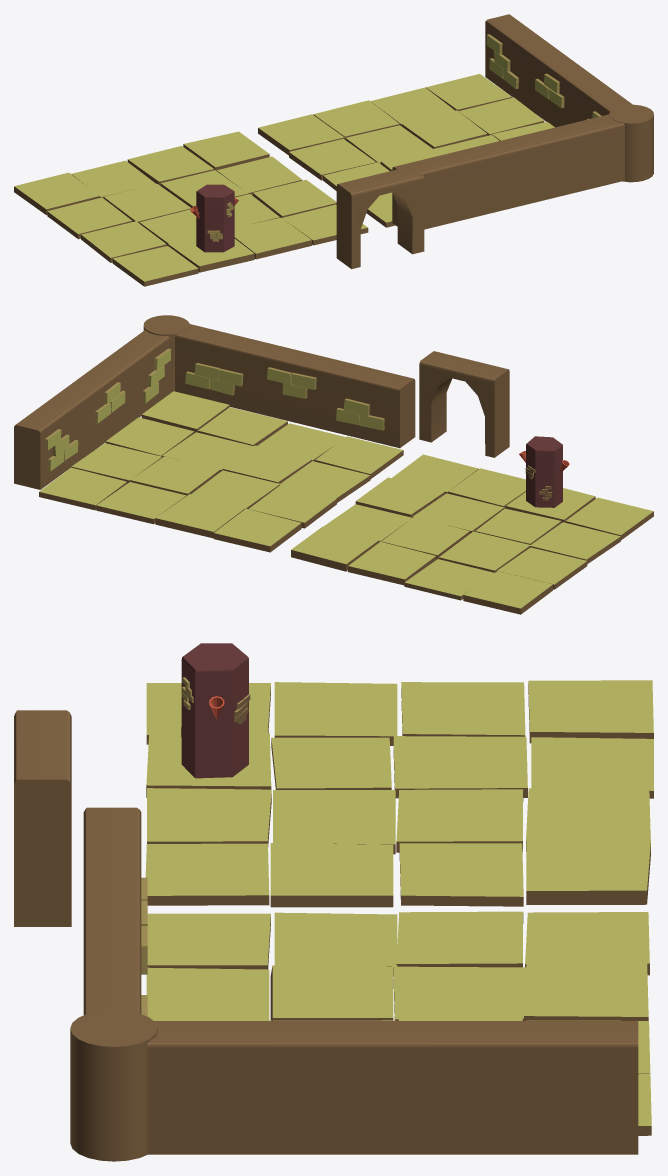
Rendered from environmentImport.fbx.
3 renders of one model, top to bottom at view 1: azimuth 30°, elevation 25°; view 2: azimuth 150°, elevation 25°; view 3: azimuth 270°, elevation 25°, orthographic. The views are drawn at different scales.
Visible parts, largest first — view 1: wall01 (×2), Portal, pCube11 (×2), pCube15 (×2), pCube14 (×2), pCube12 (×2), pCube9 (×2), pCube16 (×2), pCube10 (×2), pCube13 (×2), pCube1 (×2), pCube3 (×2) (+8 smaller); view 2: wall01 (×2), Portal, pCube15 (×2), pCube11 (×2), pCube7 (×2), pCube12 (×2), pCube1 (×2), pCube3 (×2), pCube10 (×2), pCube14 (×2), pCube4 (×2), pCube13 (×2) (+8 smaller); view 3: wall01 (×2), pCube4 (×2), pCube14 (×2), pCube10 (×2), pCube3 (×2), pCube15 (×2), pCube2 (×2), Portal, cornerCylinder, pCube16 (×2), pCube1 (×2), pCube13 (×2) (+8 smaller).
Boxes of the visible parts, box(x1,y1,x2,y2) form: wall01 (×2): box(392, 14, 632, 229); Portal: box(336, 166, 424, 269); pCube11 (×2): box(14, 110, 487, 215); pCube15 (×2): box(127, 114, 344, 185); pCube14 (×2): box(103, 125, 432, 223); pCube12 (×2): box(47, 87, 454, 239); pCube9 (×2): box(216, 97, 544, 195); pCube16 (×2): box(168, 100, 399, 272); pCube10 (×2): box(160, 138, 376, 207); pCube13 (×2): box(282, 74, 512, 245); pCube1 (×2): box(112, 192, 395, 286); pCube3 (×2): box(81, 162, 389, 262); wall01 (×2): box(14, 324, 415, 489); Portal: box(419, 351, 509, 457); pCube15 (×2): box(213, 508, 436, 585); pCube11 (×2): box(130, 456, 552, 614); pCube7 (×2): box(141, 391, 379, 571); pCube12 (×2): box(96, 482, 587, 589); pCube1 (×2): box(315, 436, 653, 540); pCube3 (×2): box(279, 461, 620, 563); pCube10 (×2): box(249, 484, 469, 559); pCube14 (×2): box(191, 470, 530, 572); pCube4 (×2): box(222, 445, 445, 517); pCube13 (×2): box(39, 454, 478, 510); wall01 (×2): box(83, 807, 638, 1154); pCube4 (×2): box(270, 843, 393, 1020); pCube14 (×2): box(393, 736, 527, 1020); pCube10 (×2): box(396, 789, 523, 967); pCube3 (×2): box(274, 682, 397, 966); pCube15 (×2): box(525, 788, 650, 975); pCube2 (×2): box(146, 737, 653, 1020); Portal: box(14, 710, 71, 926); cornerCylinder: box(70, 1010, 157, 1161); pCube16 (×2): box(146, 733, 648, 1020); pCube1 (×2): box(146, 683, 270, 969); pCube13 (×2): box(145, 843, 651, 1135).
Bounding box in the file's own units: 9.18 × 1.33 × 5.21.
